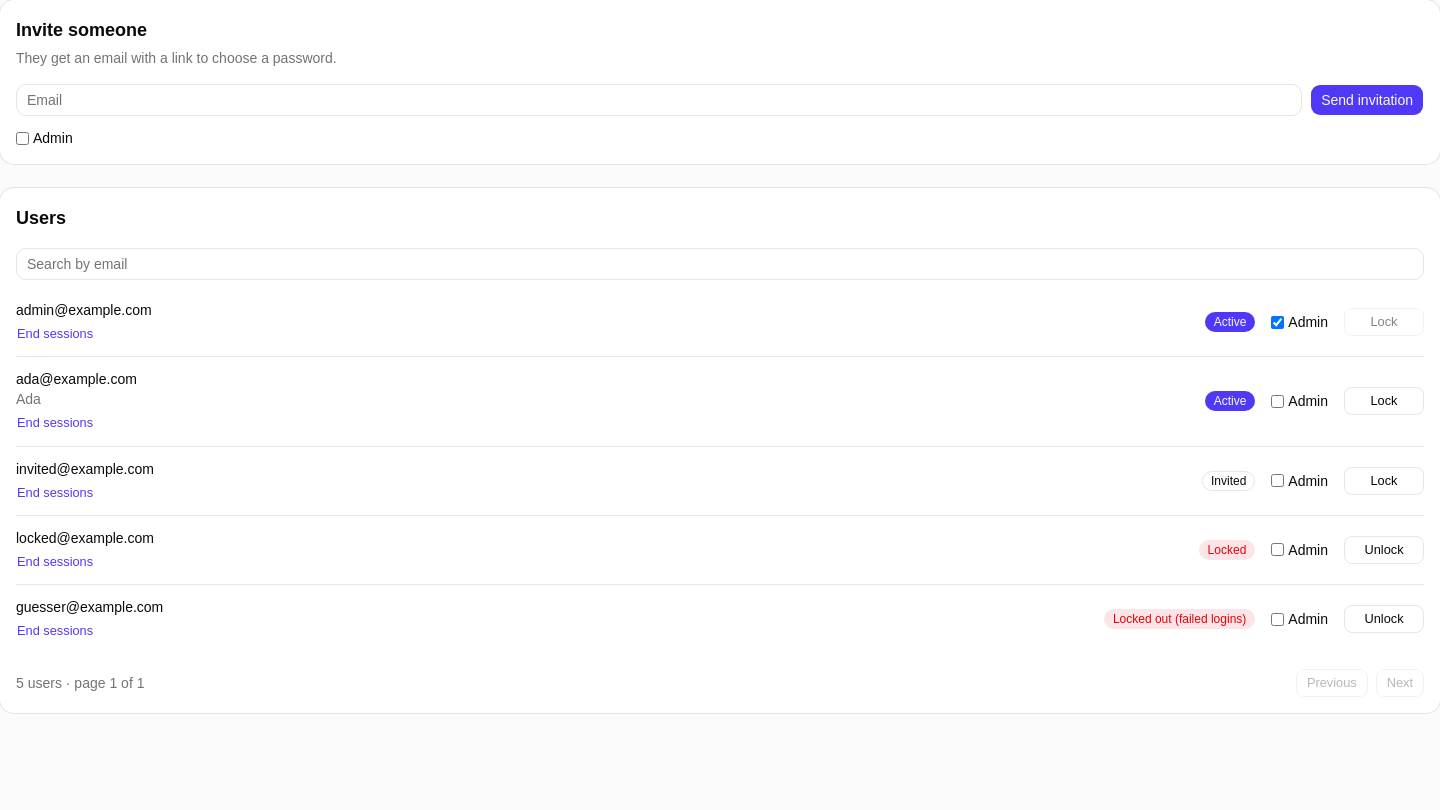
AdminPage › searches by email
Type "ada" into the search field with placeholder "Search by email". click: (720, 264)
box: [16,248,1424,280]
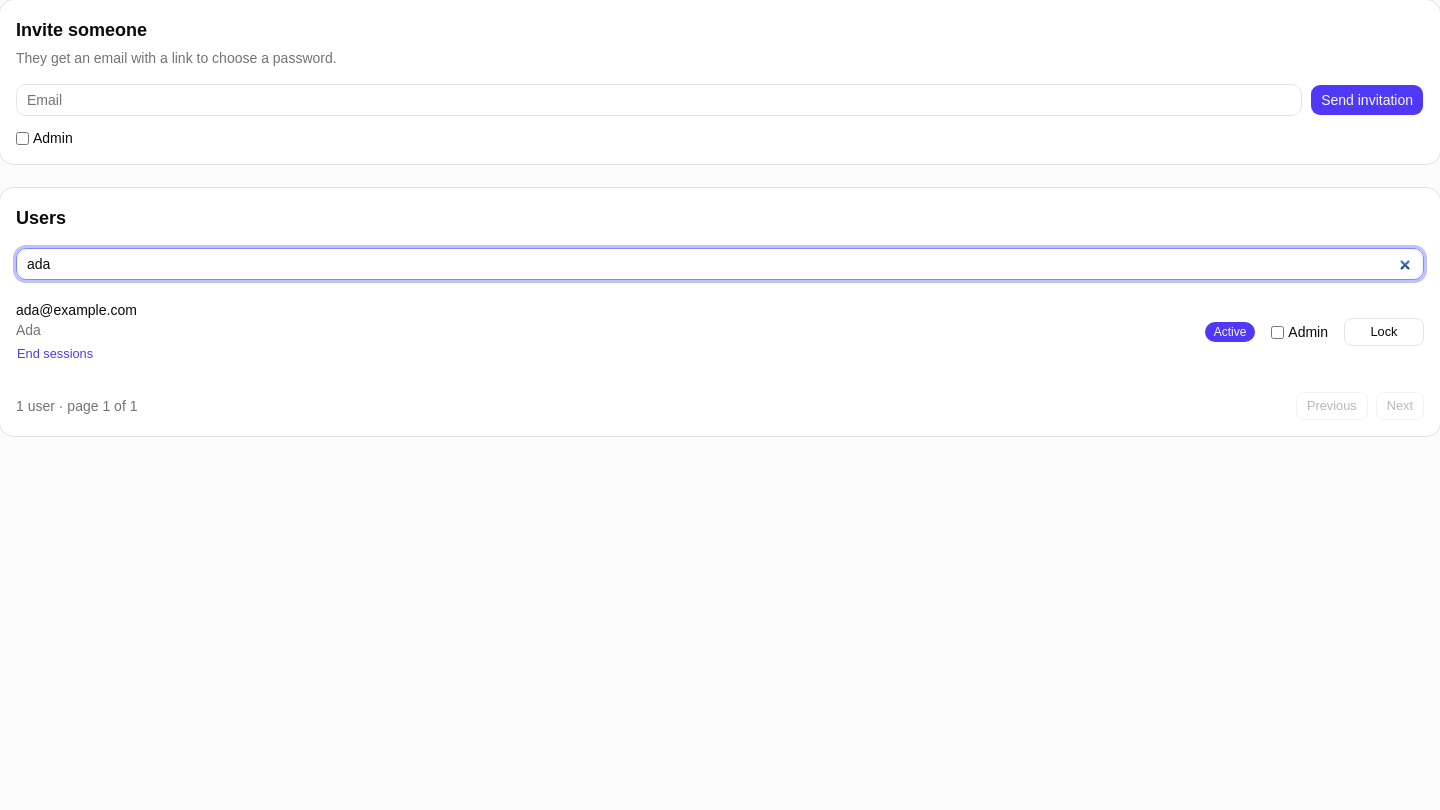
expect the text "invited@example.com" is gone: met
